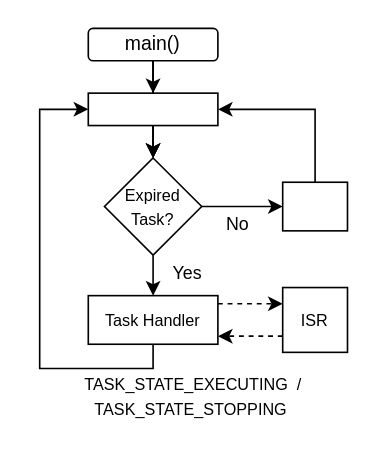
Some shapes in this 376 by 449 pixel diagram are drawn without their labels. Here are the shapes that lost their labels. From the top down, the centre of each, then its label:
point (152, 109): Scheduler Loop
point (314, 206): Sleep
